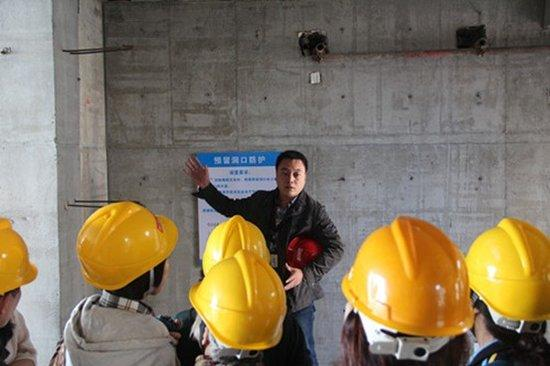helmet: (341, 215, 477, 338), (188, 251, 285, 353), (466, 216, 550, 323), (78, 202, 180, 290), (205, 215, 273, 276), (1, 214, 43, 299)
